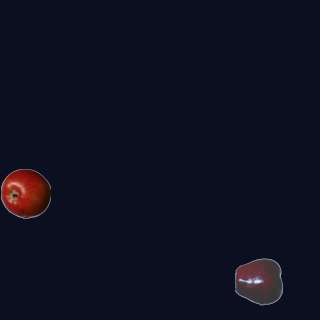Apple Braeburn: (0, 168, 50, 218)
Apple Red Delicious: (234, 256, 284, 306)
